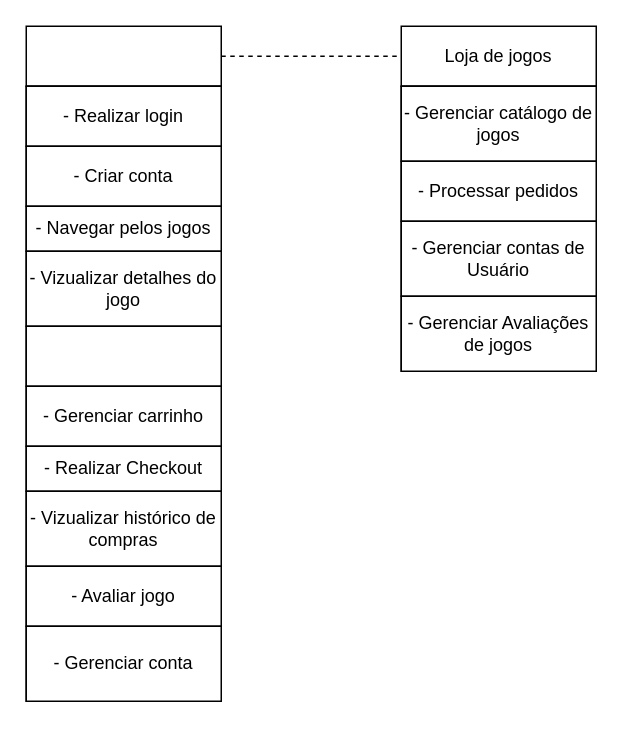
The diagram is 623 pixels wide and 740 high, and some of its shapes have lost their labels. Each missing label, with the centre of its shape:
"- Adicionar ao carrinho" belongs at [123,355].
"Usuário" belongs at [123,55].
